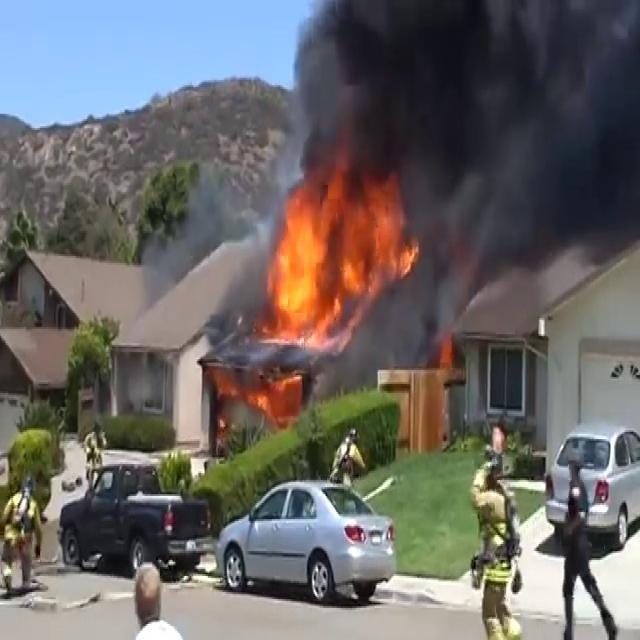Fire: (258, 167, 421, 341)
Smoke: (265, 0, 636, 293)
